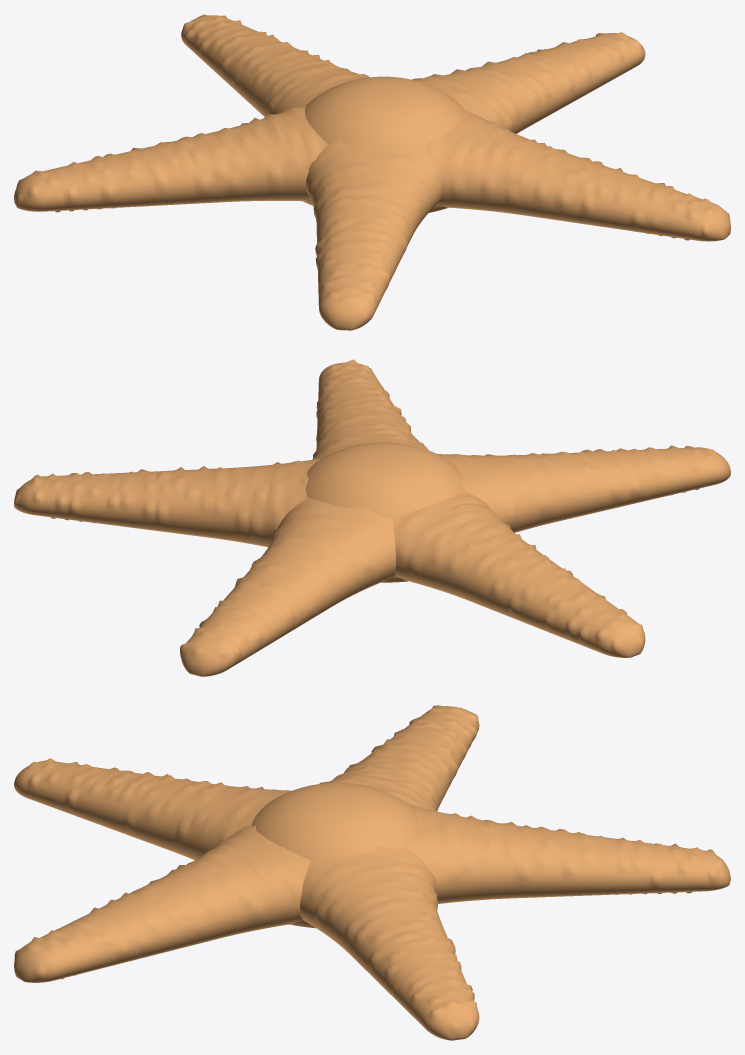
The model's file is starfish_classic.glb.
The picture shows the model from 3 angles, top to bottom: view 1: azimuth 30°, elevation 25°; view 2: azimuth 150°, elevation 25°; view 3: azimuth 270°, elevation 25°; orthographic projection. The views are drawn at different scales.
Visible parts, largest first — view 1: starfish_classic; view 2: starfish_classic; view 3: starfish_classic.
Part boxes in pixels (x1,y1,x2,y2): starfish_classic: (14, 14, 730, 330); starfish_classic: (14, 359, 730, 676); starfish_classic: (14, 705, 730, 1040).
Bounding box in the file's own units: 0.258 × 0.0347 × 0.246.
